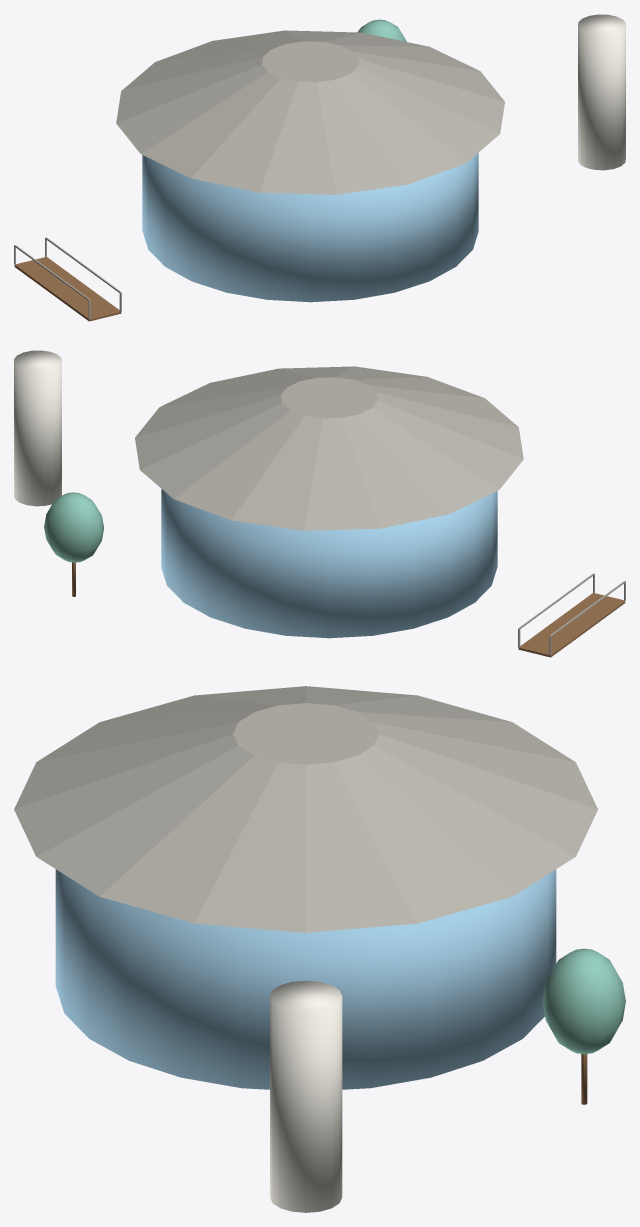
The model's file is DongbaekIsland_blockout.glb.
3 views of the same model, one above another, from view 1: azimuth 30°, elevation 25°; view 2: azimuth 150°, elevation 25°; view 3: azimuth 270°, elevation 25° (orthographic). The views are drawn at different scales.
Parts seen in each view (by area): view 1: ENV16_DongbaekIsland_PavilionRoof_L0, ENV16_DongbaekIsland_Pavilion_L0, ENV16_DongbaekIsland_Lighthouse_L0, ENV16_DongbaekIsland_CoastalDeckFloor_L0, ENV16_DongbaekIsland_PineCrown_L0; view 2: ENV16_DongbaekIsland_PavilionRoof_L0, ENV16_DongbaekIsland_Pavilion_L0, ENV16_DongbaekIsland_Lighthouse_L0, ENV16_DongbaekIsland_PineCrown_L0, ENV16_DongbaekIsland_CoastalDeckFloor_L0; view 3: ENV16_DongbaekIsland_PavilionRoof_L0, ENV16_DongbaekIsland_Pavilion_L0, ENV16_DongbaekIsland_Lighthouse_L0, ENV16_DongbaekIsland_PineCrown_L0.
Boxes of the visible parts, x1,y1,x2,y2 form: ENV16_DongbaekIsland_PavilionRoof_L0: [116, 30, 504, 194]; ENV16_DongbaekIsland_Pavilion_L0: [142, 153, 478, 302]; ENV16_DongbaekIsland_Lighthouse_L0: [578, 14, 625, 170]; ENV16_DongbaekIsland_CoastalDeckFloor_L0: [14, 257, 121, 321]; ENV16_DongbaekIsland_PineCrown_L0: [357, 19, 406, 41]; ENV16_DongbaekIsland_PavilionRoof_L0: [135, 366, 523, 530]; ENV16_DongbaekIsland_Pavilion_L0: [161, 489, 497, 638]; ENV16_DongbaekIsland_Lighthouse_L0: [14, 350, 61, 506]; ENV16_DongbaekIsland_PineCrown_L0: [44, 492, 103, 562]; ENV16_DongbaekIsland_CoastalDeckFloor_L0: [518, 593, 625, 657]; ENV16_DongbaekIsland_PavilionRoof_L0: [14, 686, 597, 932]; ENV16_DongbaekIsland_Pavilion_L0: [55, 869, 556, 1089]; ENV16_DongbaekIsland_Lighthouse_L0: [270, 980, 342, 1212]; ENV16_DongbaekIsland_PineCrown_L0: [542, 948, 625, 1054].
Bounding box in the file's own units: 35.3 × 10 × 22.
